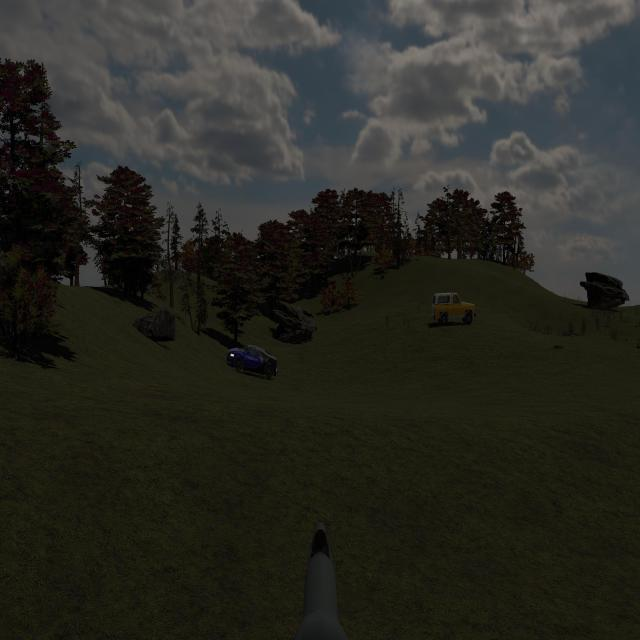car: (226, 343, 277, 380), (432, 290, 476, 328)
